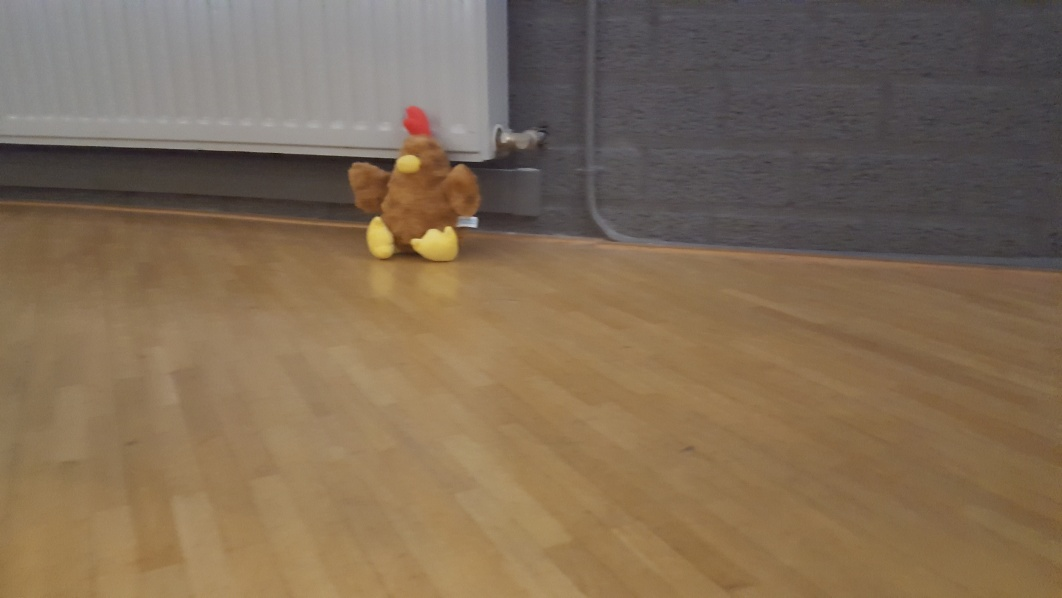chicken: (345, 105, 482, 268)
